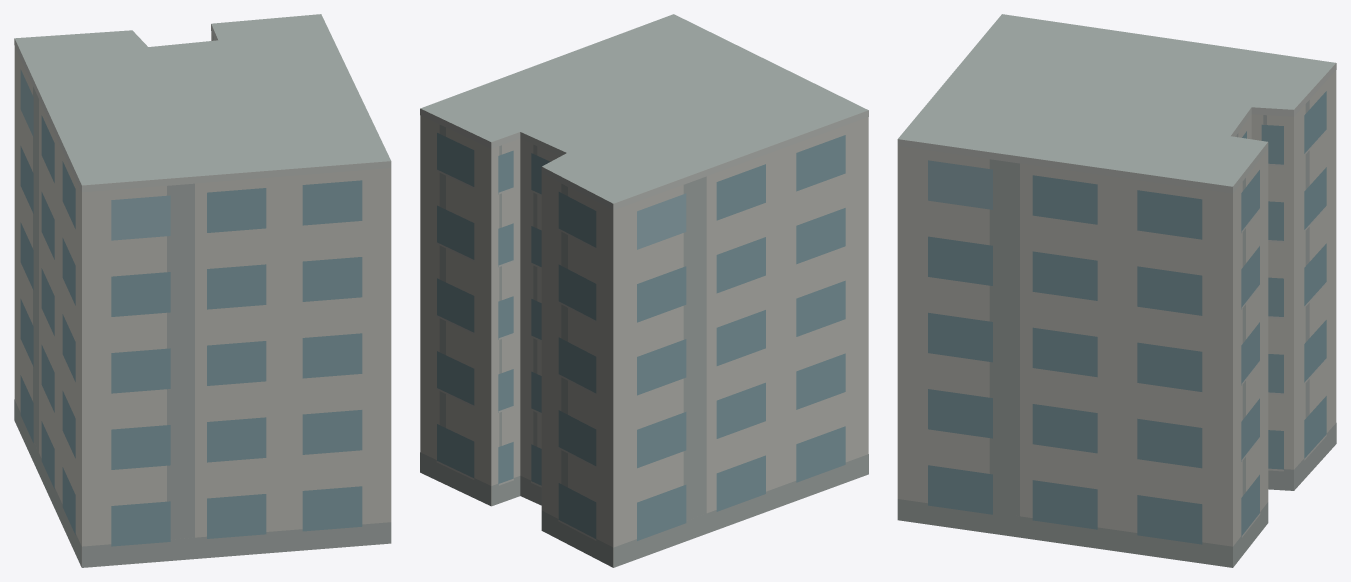
File: survey-upis-32883314.glb
The picture shows the model from 3 angles, left to right: view 1: azimuth 30°, elevation 25°; view 2: azimuth 150°, elevation 25°; view 3: azimuth 270°, elevation 25°; orthographic projection. The views are drawn at different scales.
Visible parts, largest first — view 1: survey-upis-32883314.tmp; view 2: survey-upis-32883314.tmp; view 3: survey-upis-32883314.tmp.
Boxes of the visible parts, x1,y1,x2,y2 form: survey-upis-32883314.tmp: [14, 14, 391, 567]; survey-upis-32883314.tmp: [420, 14, 868, 567]; survey-upis-32883314.tmp: [897, 14, 1336, 567].
Size of the model in its own units: 12.79 by 13.15 by 13.73.
